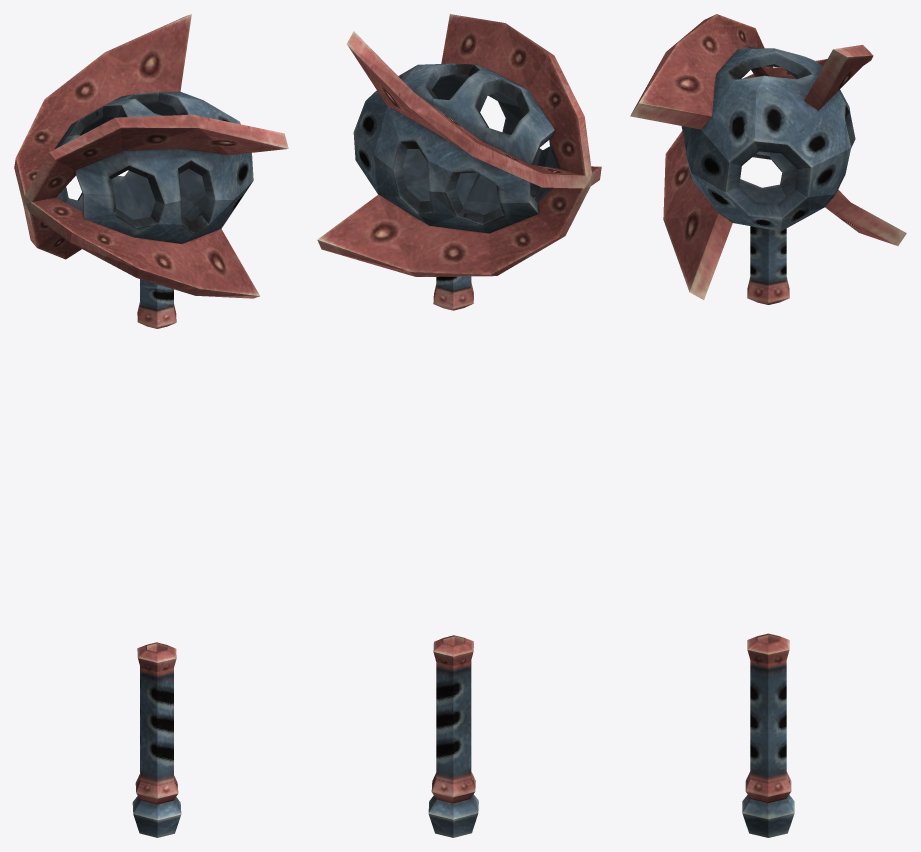
File: Bison_specialHammer.obj
3 renders of one model, left to right at view 1: azimuth 30°, elevation 25°; view 2: azimuth 150°, elevation 25°; view 3: azimuth 270°, elevation 25°, orthographic. The views are drawn at different scales.
Visible parts, largest first — view 1: Bison_specialHammer_tri; view 2: Bison_specialHammer_tri; view 3: Bison_specialHammer_tri.
Boxes of the visible parts, bbox=[...] form: Bison_specialHammer_tri: bbox=[14, 14, 288, 837]; Bison_specialHammer_tri: bbox=[317, 14, 601, 837]; Bison_specialHammer_tri: bbox=[630, 14, 906, 837].
Size of the model in its own units: 1.25 by 4.49 by 1.39.
1 material, 1 textured.
